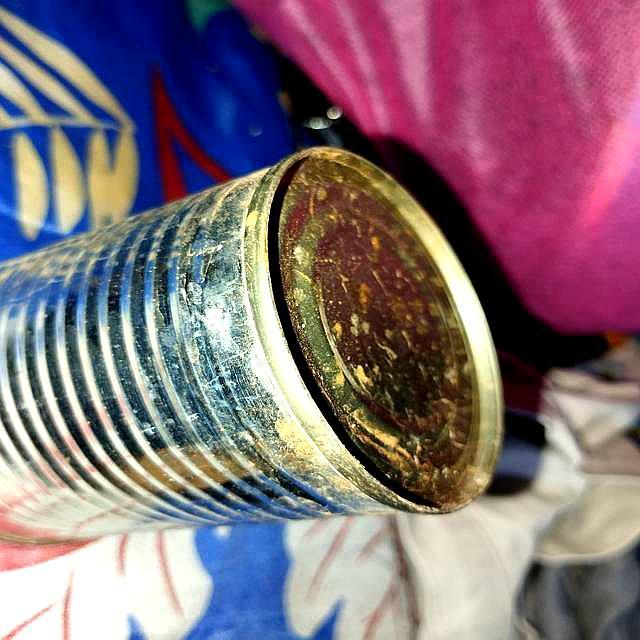Non-biodegradable: (2, 144, 508, 547)
